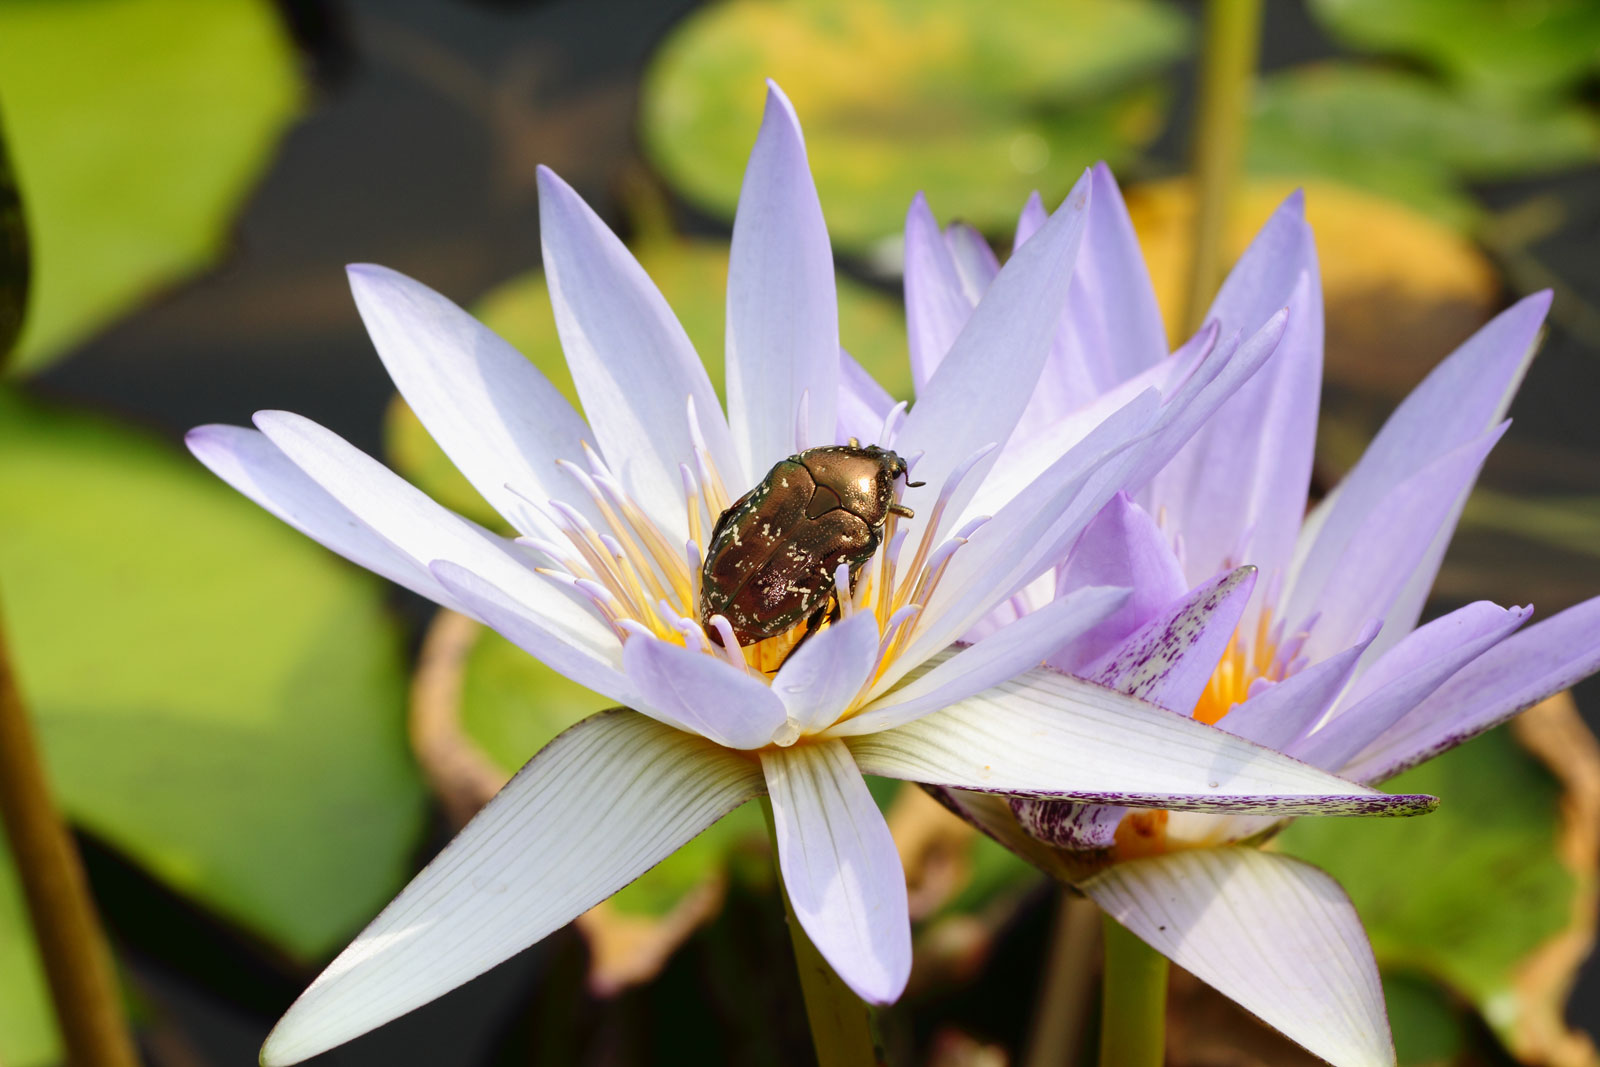Protaetia _orientalis: (693, 433, 942, 645)
